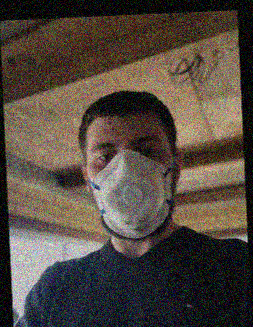with_mask: (88, 127, 175, 240)
